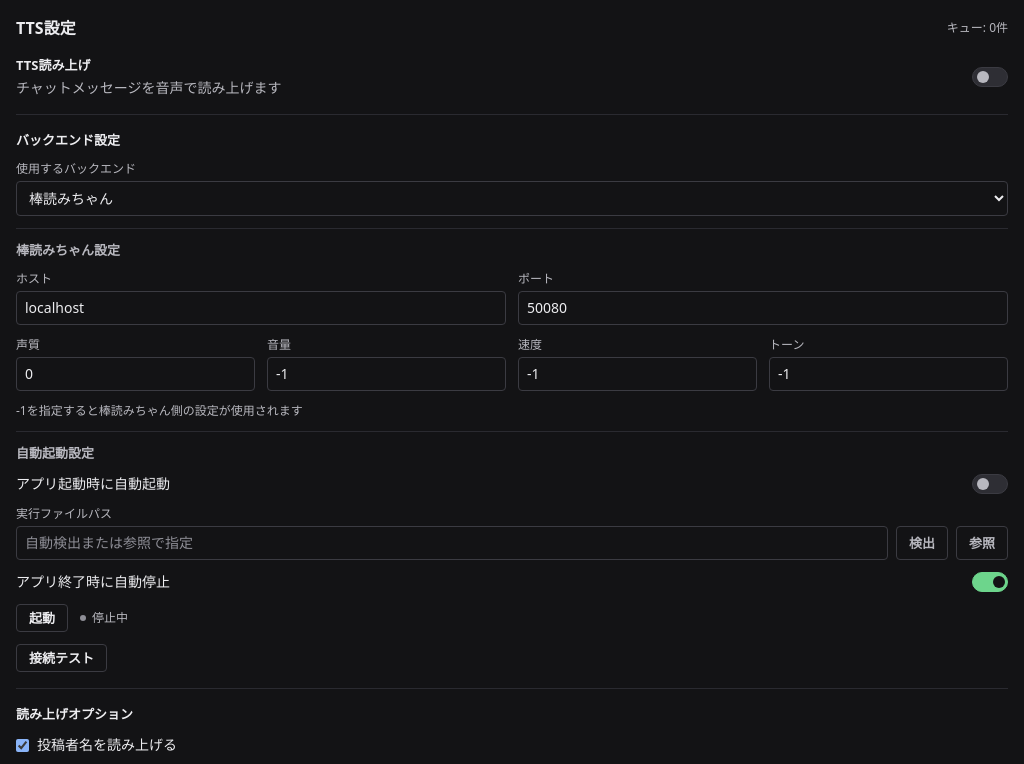
Test case: TtsSettings 自動起動設定 › 自動検出で見つかったパスを欄に入れて保存する
Expected: the heading "自動起動設定" is shown, [16,444,94,462]
Click the button titled "自動検出" at point(922, 543), box [896,526,948,560]
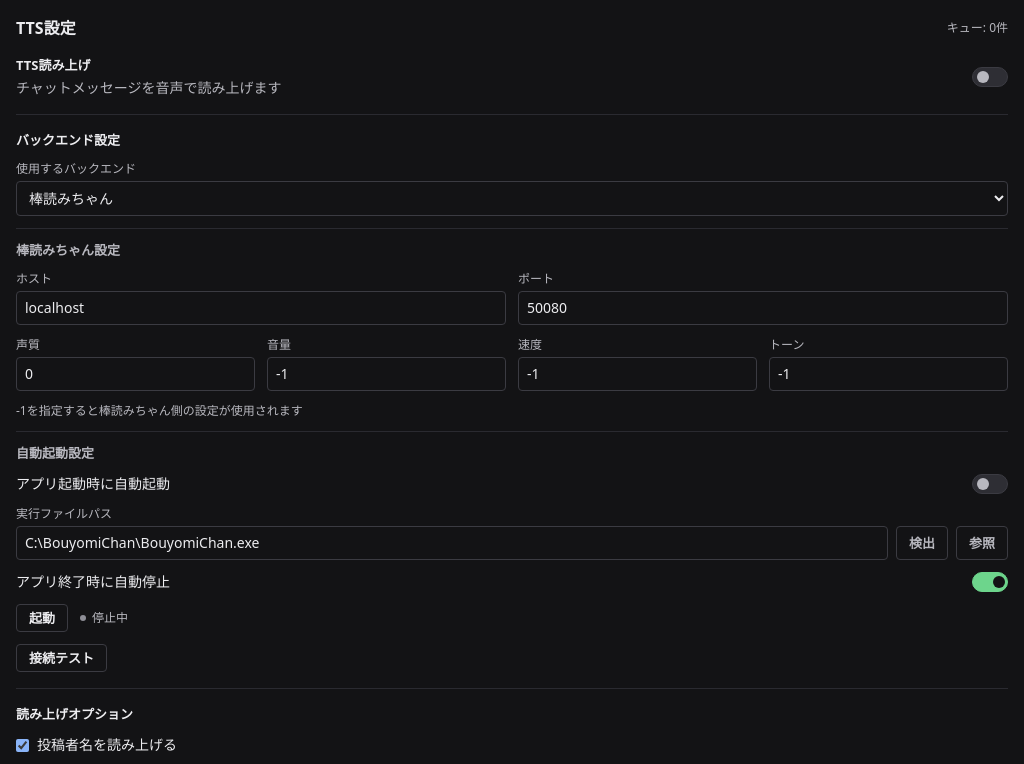
Now the field with placeholder "自動検出または参照で指定" holds "C:\\BouyomiChan\\BouyomiChan.exe", box [16,526,888,560]
